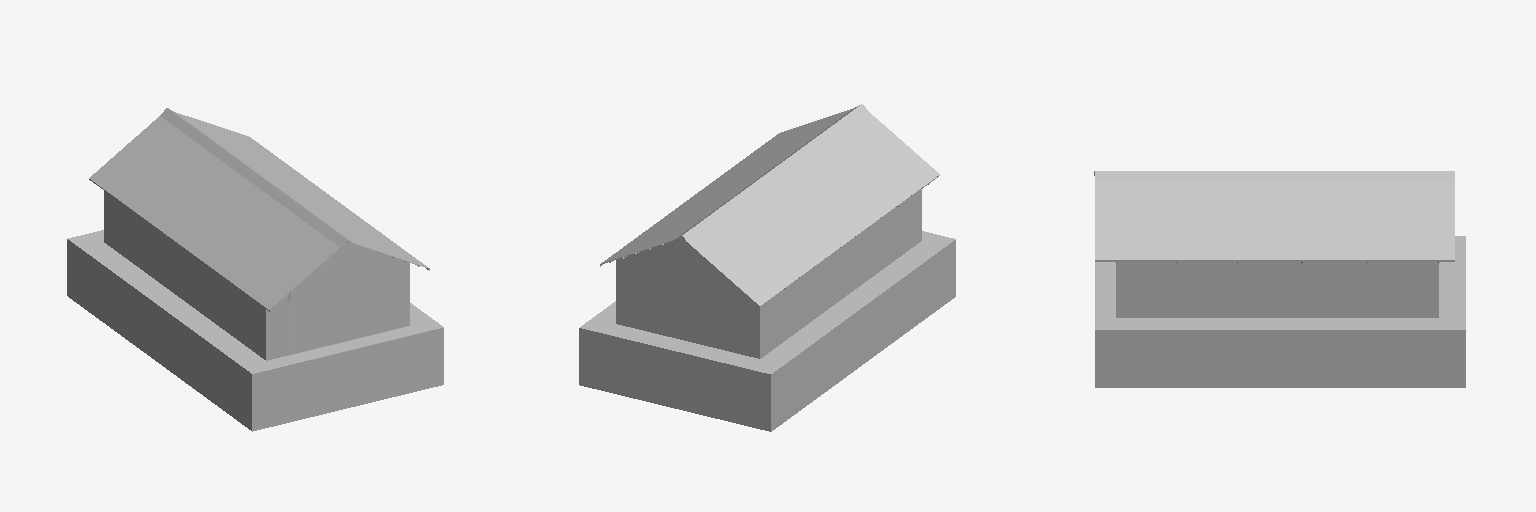
File: oldhouse.obj
3 renders of one model, left to right at view 1: azimuth 30°, elevation 25°; view 2: azimuth 150°, elevation 25°; view 3: azimuth 270°, elevation 25°, orthographic.
Visible parts, largest first — view 1: old_house:SAN_RUMAHGEN05; view 2: old_house:SAN_RUMAHGEN05; view 3: old_house:SAN_RUMAHGEN05.
Part boxes in pixels (bbox=[...]): old_house:SAN_RUMAHGEN05: bbox=[67, 108, 443, 431]; old_house:SAN_RUMAHGEN05: bbox=[579, 104, 955, 431]; old_house:SAN_RUMAHGEN05: bbox=[1094, 171, 1465, 387].
Size of the model in its own units: 3.24 by 2.73 by 5.42.